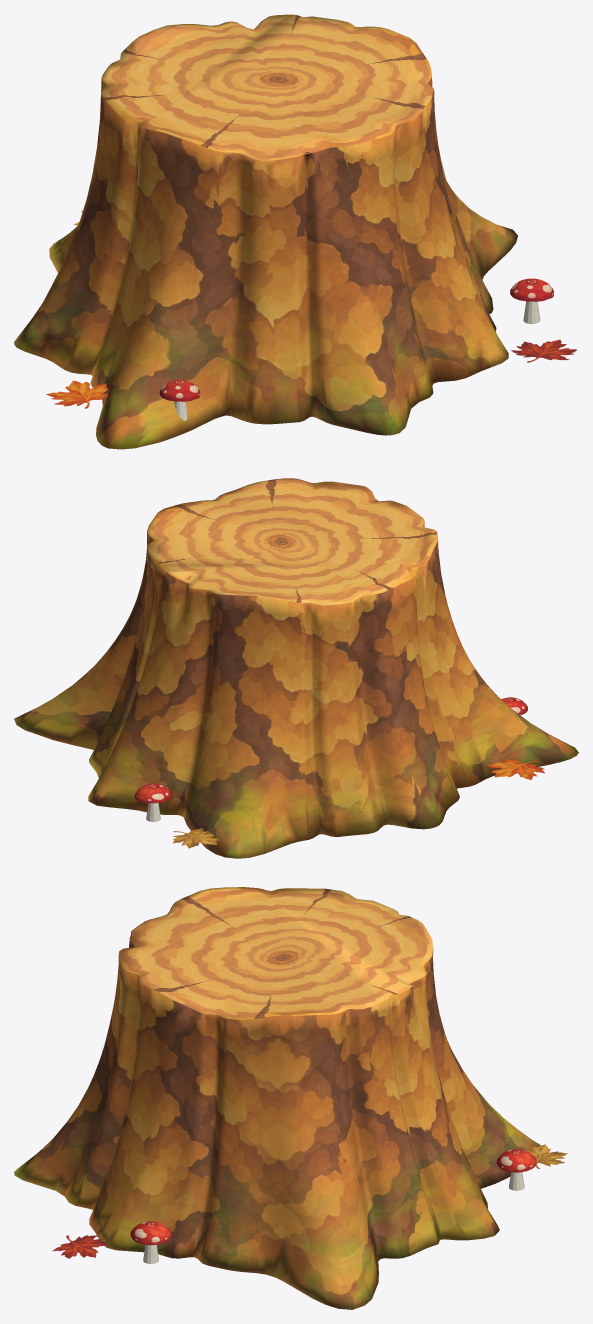
The model's file is stump_b.glb.
The picture shows the model from 3 angles, top to bottom: view 1: azimuth 30°, elevation 25°; view 2: azimuth 150°, elevation 25°; view 3: azimuth 270°, elevation 25°; orthographic projection. The views are drawn at different scales.
Visible parts, largest first — view 1: stump_b_body, leaf_stump_01, leaf_stump_02, mushroom_cap_01, mushroom_cap_02; view 2: stump_b_body, leaf_stump_01, mushroom_cap_03, leaf_stump_03; view 3: stump_b_body, mushroom_cap_01, leaf_stump_02, mushroom_cap_03.
Boxes of the visible parts, x1=… form: stump_b_body: x1=14, y1=14, x2=517, y2=449; leaf_stump_01: x1=46, y1=380, x2=107, y2=408; leaf_stump_02: x1=511, y1=339, x2=576, y2=362; mushroom_cap_01: x1=510, y1=278, x2=553, y2=301; mushroom_cap_02: x1=159, y1=379, x2=200, y2=401; stump_b_body: x1=14, y1=478, x2=578, y2=858; leaf_stump_01: x1=486, y1=759, x2=544, y2=779; mushroom_cap_03: x1=135, y1=783, x2=171, y2=803; leaf_stump_03: x1=173, y1=828, x2=219, y2=848; stump_b_body: x1=14, y1=887, x2=540, y2=1309; mushroom_cap_01: x1=130, y1=1221, x2=171, y2=1245; leaf_stump_02: x1=52, y1=1235, x2=108, y2=1258; mushroom_cap_03: x1=497, y1=1149, x2=536, y2=1172.
Size of the model in its own units: 1.84 by 0.8029 by 1.76.
4 materials, 3 textured.
